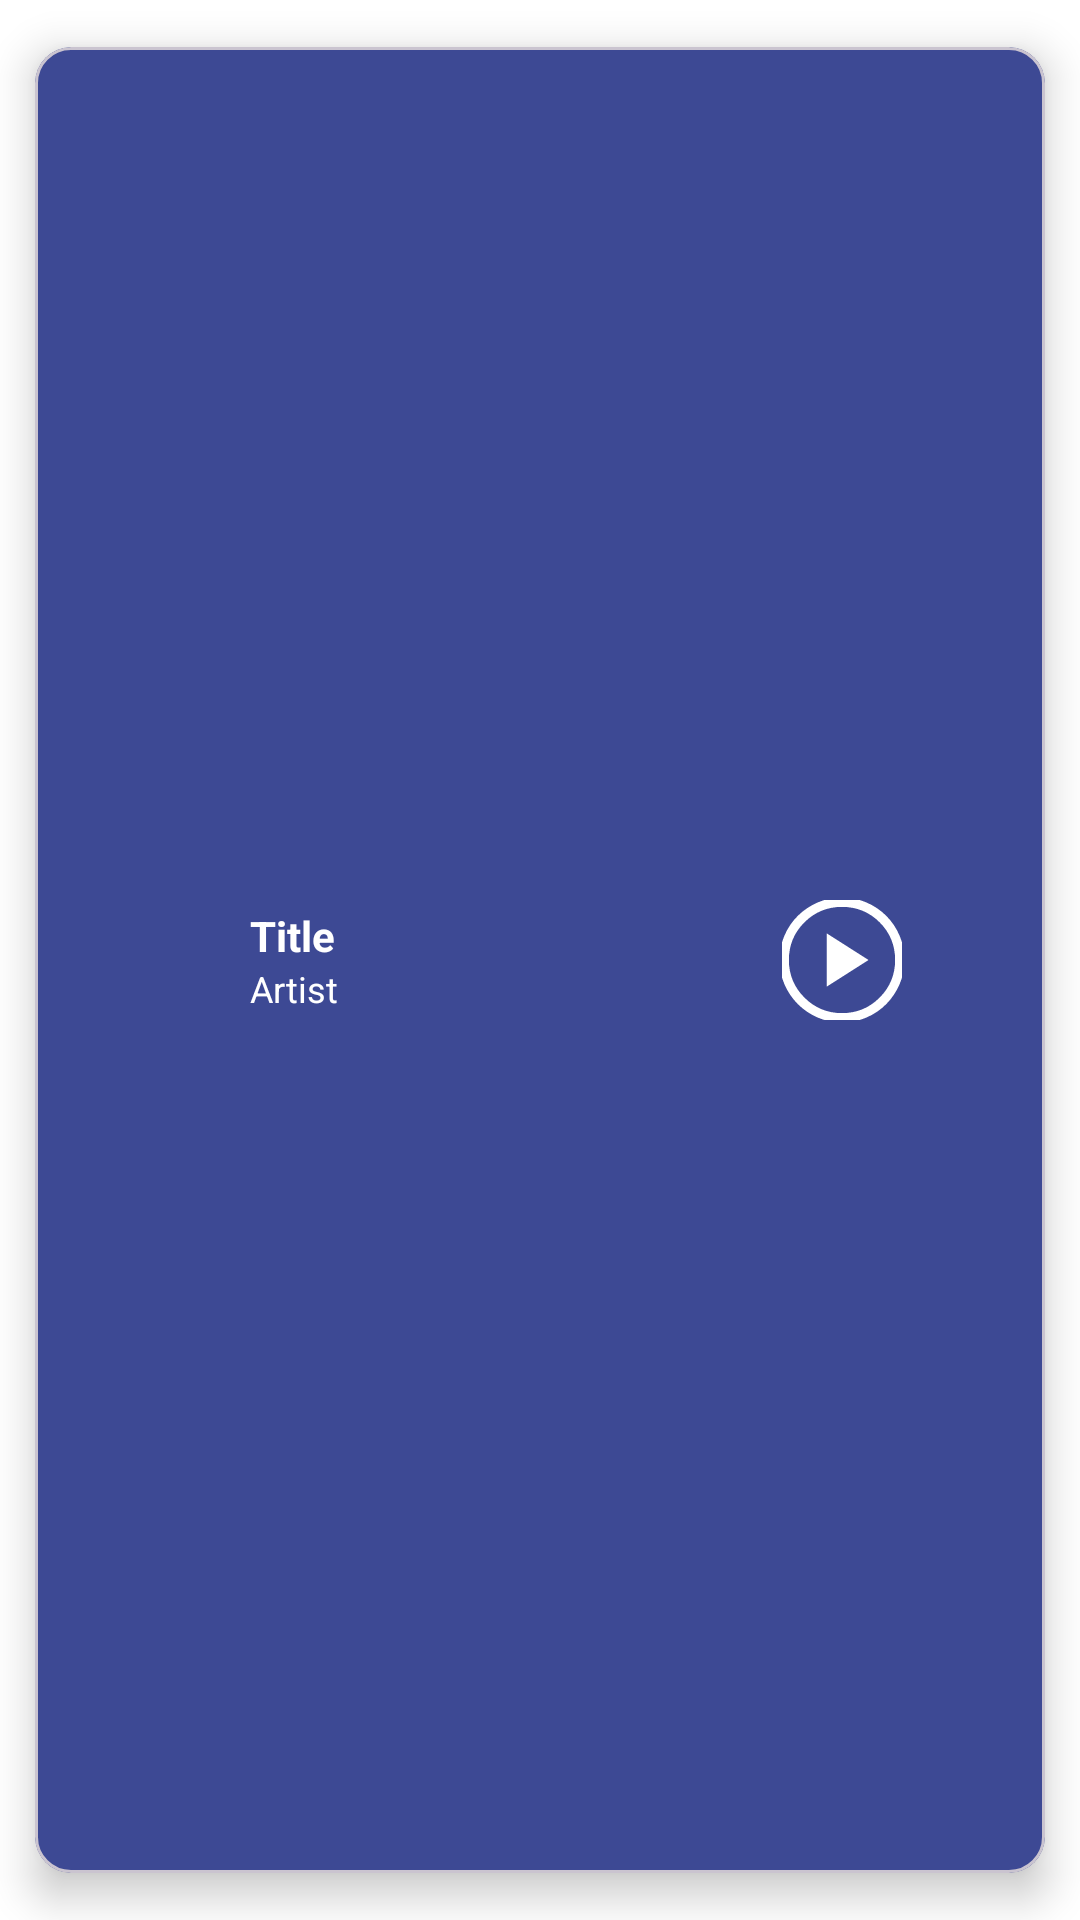

Locate icon controls on the screen. Image size 1080*1920, boxes as (x1=x1, y1=y1, x2=x2, y2=y2).
play: (x1=782, y1=900, x2=902, y2=1020)
